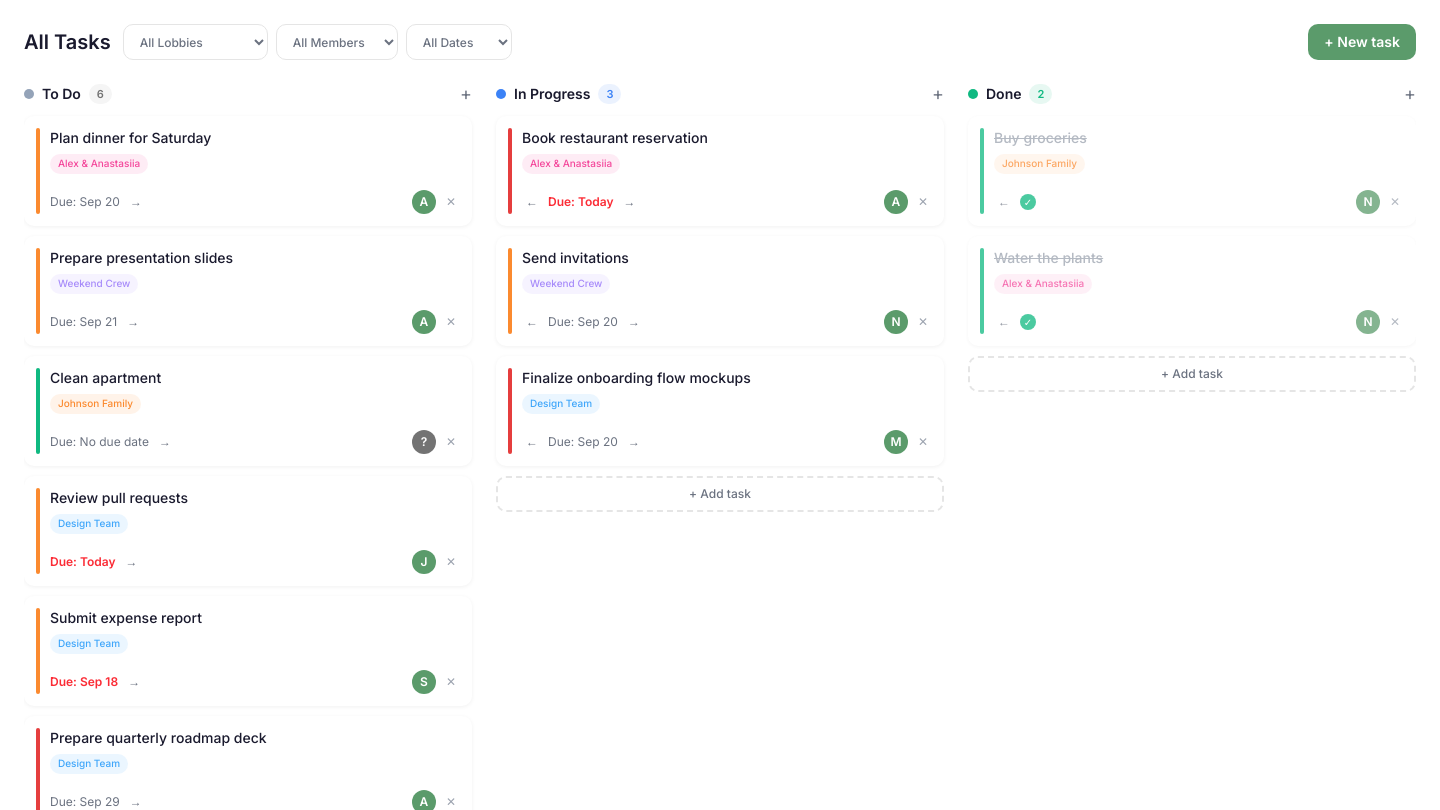
KanbanBoard › deletes a task after confirming, removing it from the board
Expected: the text "Plan dinner for Saturday" is shown, [50,129,211,146]
Step 1. Click the 1st button "✕" → (451, 202), box [442,194,460,210]
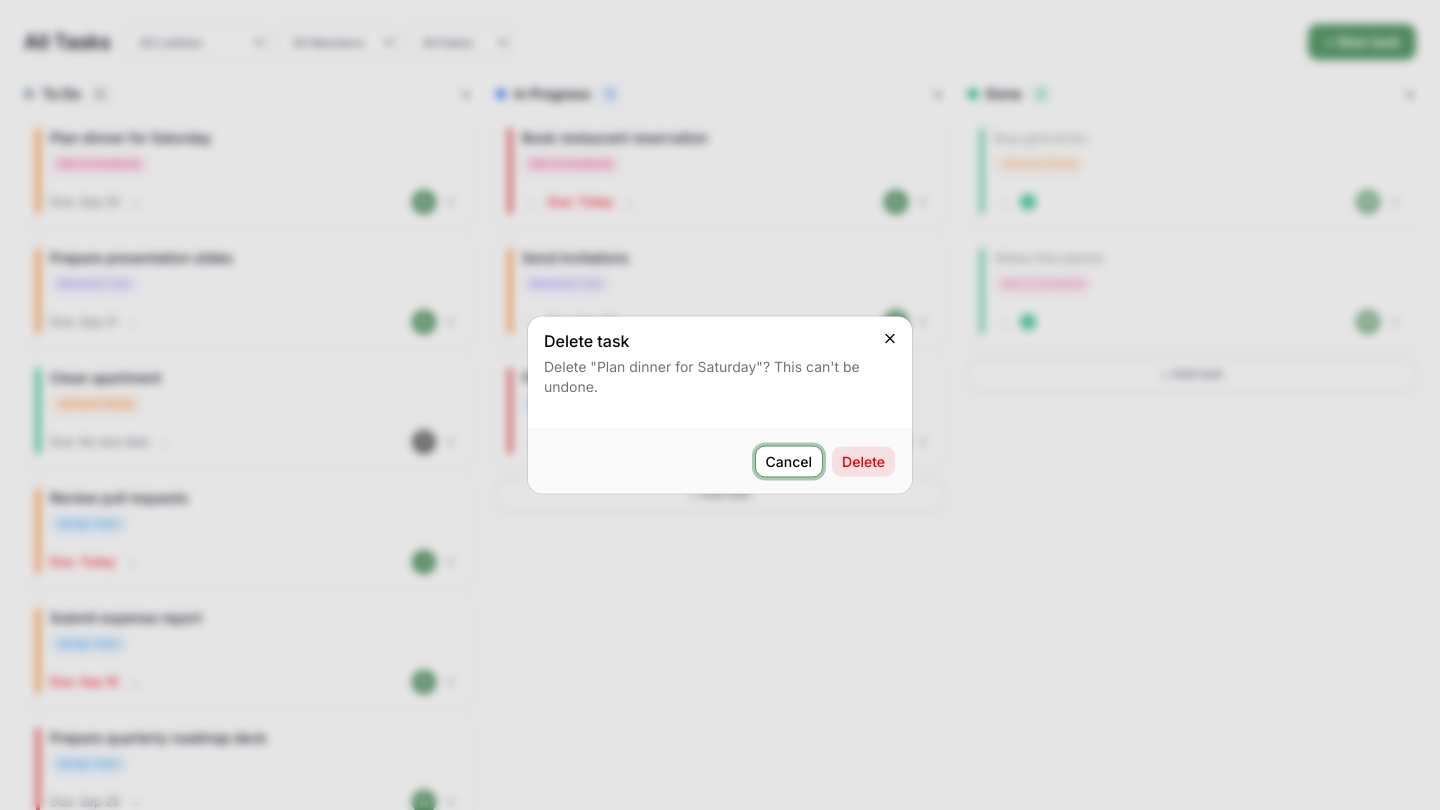
Now the heading "Delete task" is shown, box [544,330,630,350]
Step 2. Click the button "Delete" → (864, 462), box [831,446,896,478]
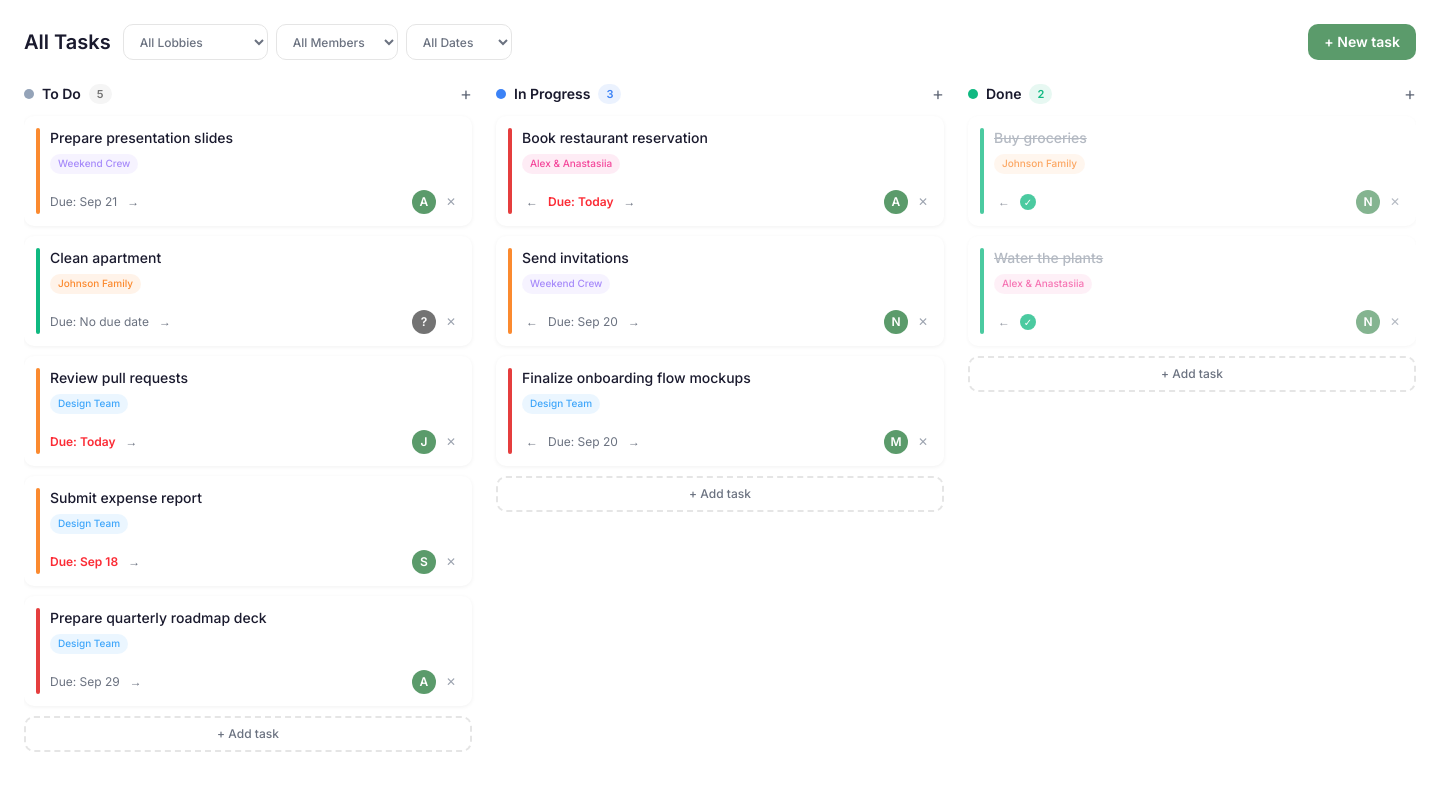
Now the button "Plan dinner for Saturday" is gone
